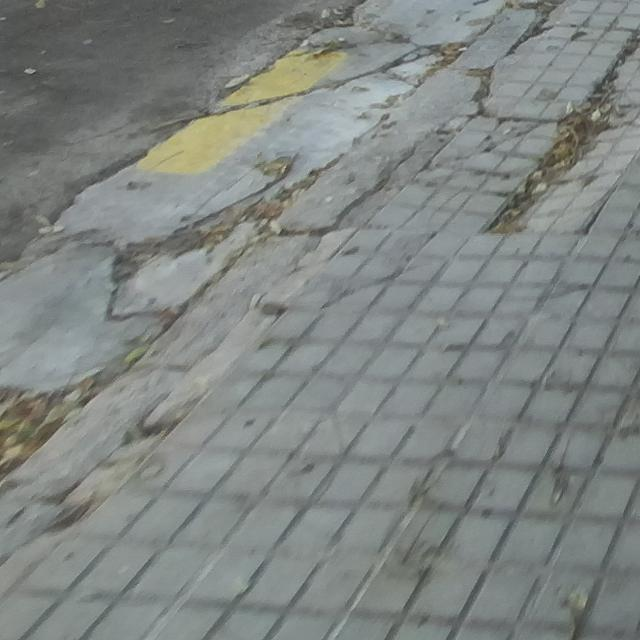calcada_quebrada: (476, 168, 620, 238), (531, 97, 632, 166), (467, 87, 529, 166), (580, 23, 640, 94)
